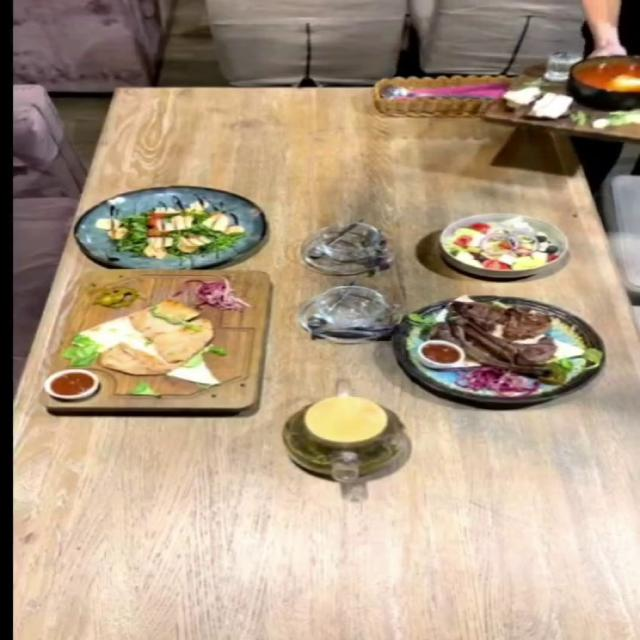meat: (390, 295, 606, 404)
salat: (72, 185, 264, 268), (437, 211, 570, 276)
soup: (504, 82, 634, 130)
tea: (280, 394, 410, 484)
